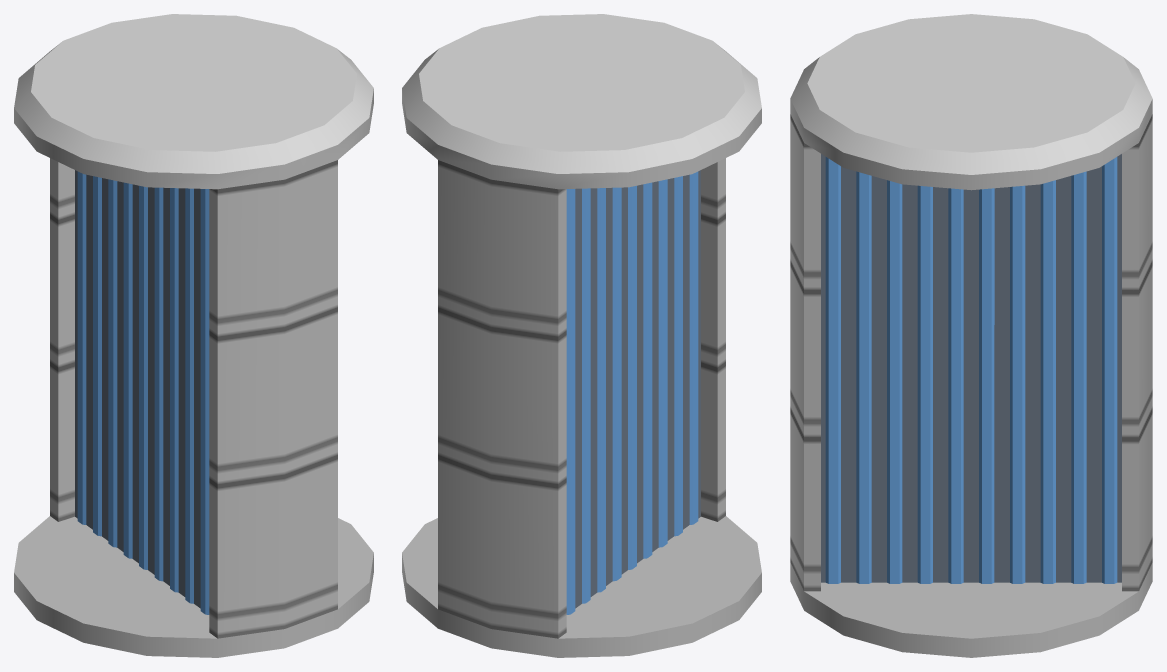
Rendered from WeaponRack.fbx.
3 views of the same model, side by side, from view 1: azimuth 30°, elevation 25°; view 2: azimuth 150°, elevation 25°; view 3: azimuth 270°, elevation 25° (orthographic).
Visible parts, largest first — view 1: WeaponRack; view 2: WeaponRack; view 3: WeaponRack.
Part boxes in pixels (left/top/right/bottom): WeaponRack: left=14, top=14, right=373, bottom=657; WeaponRack: left=402, top=14, right=761, bottom=657; WeaponRack: left=790, top=14, right=1152, bottom=657.
Size of the model in its own units: 1.6 by 2.43 by 1.6.
